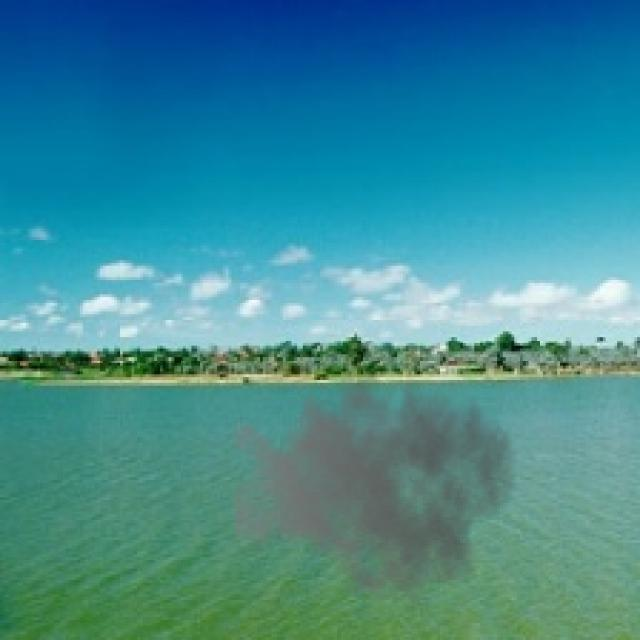Smoke: (234, 352, 517, 608)
